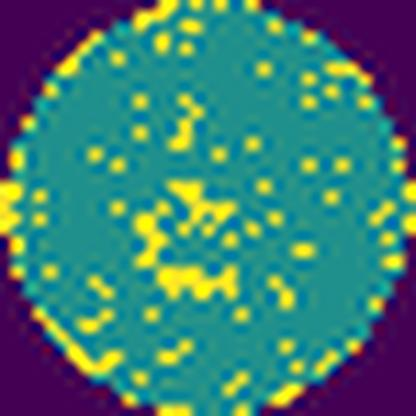Loc: (167, 175, 238, 238), (153, 260, 242, 301), (130, 200, 169, 267)
